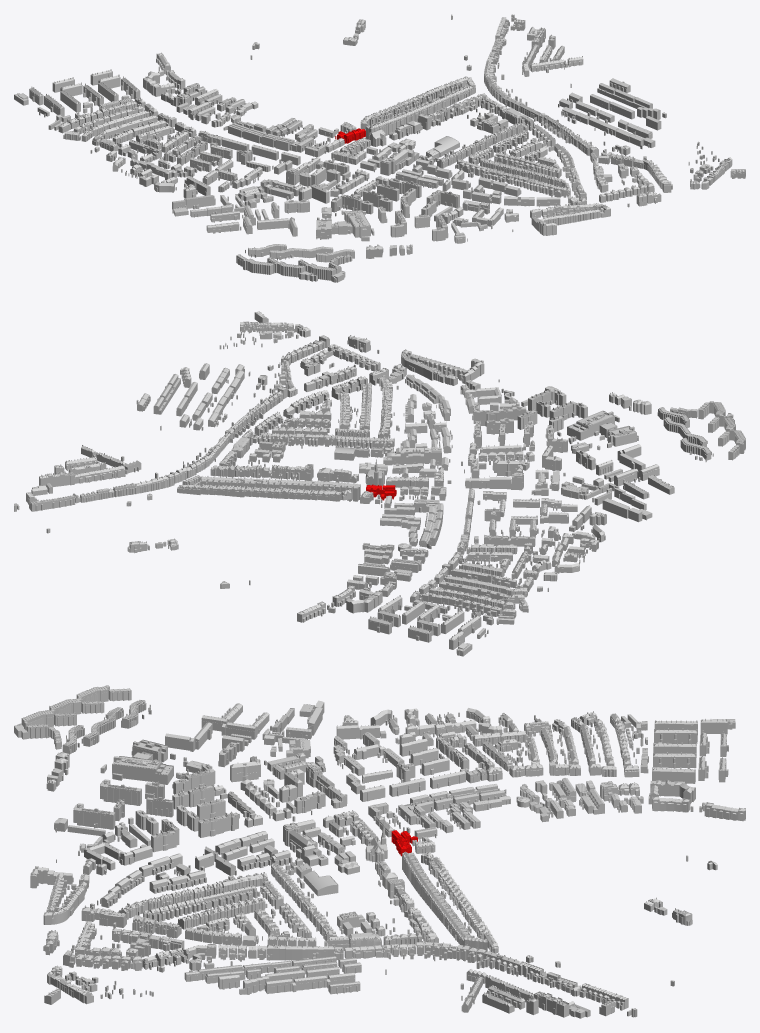
Rendered from TQ3173_Buildings_LOD_1_draco.glb.
3 views of the same model, one above another, from view 1: azimuth 30°, elevation 25°; view 2: azimuth 150°, elevation 25°; view 3: azimuth 270°, elevation 25° (orthographic). The views are drawn at different scales.
Parts seen in each view (by area): view 1: TQ3173_Buildings; view 2: TQ3173_Buildings; view 3: TQ3173_Buildings.
Boxes of the visible parts, bbox=[...] form: TQ3173_Buildings: bbox=[14, 14, 745, 282]; TQ3173_Buildings: bbox=[14, 311, 745, 656]; TQ3173_Buildings: bbox=[14, 685, 745, 1018].
Bounding box in the file's own units: 1046 × 75.55 × 1080.
Materials: 1 (1 with a texture image).
